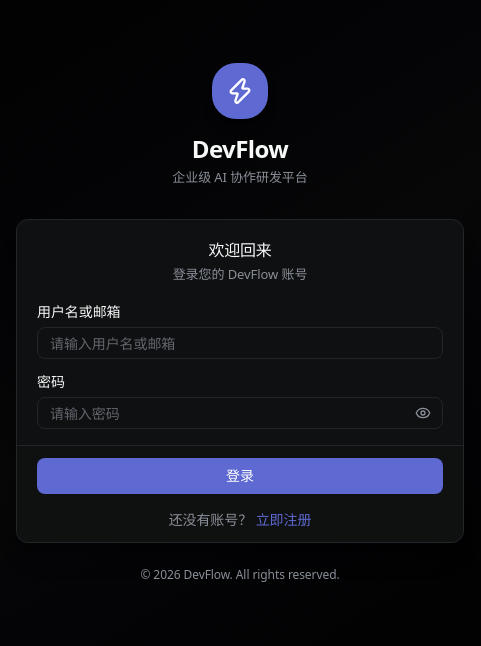
Test: LoginPage MFA flow › requires six digits, submits the challenge, and completes login
The image size is (481, 646).
Later steps or results of the test are not shown.
In the field labelled "用户名或邮箱": (240, 343) [37,327,443,359], type "developer"
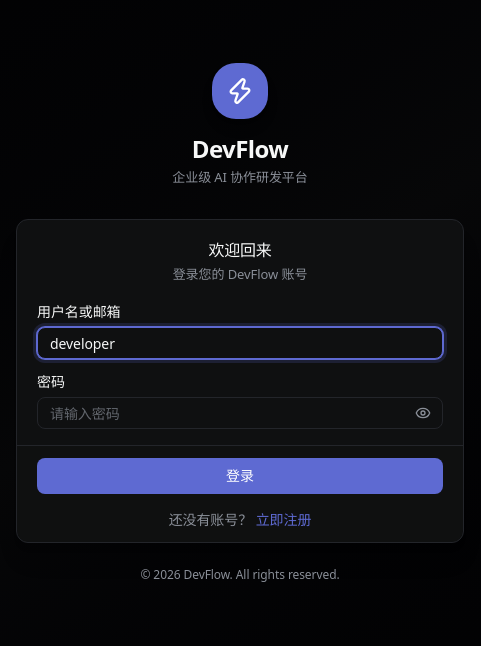
In the password field labelled "密码": (240, 413) [37,397,443,429], type "password"
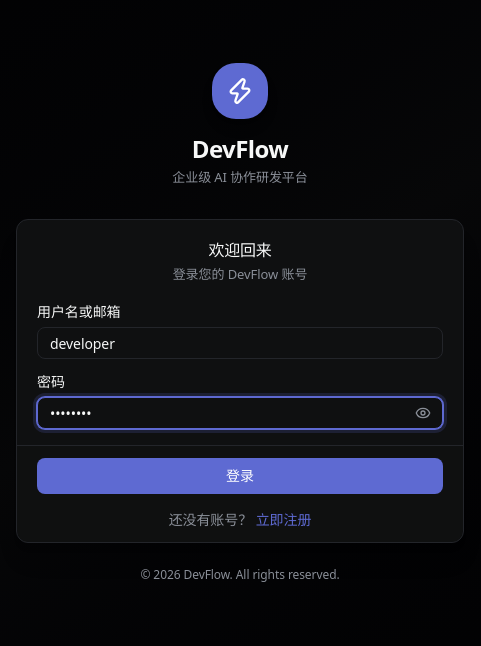
Click the button "登录": (240, 476) [37,458,443,494]
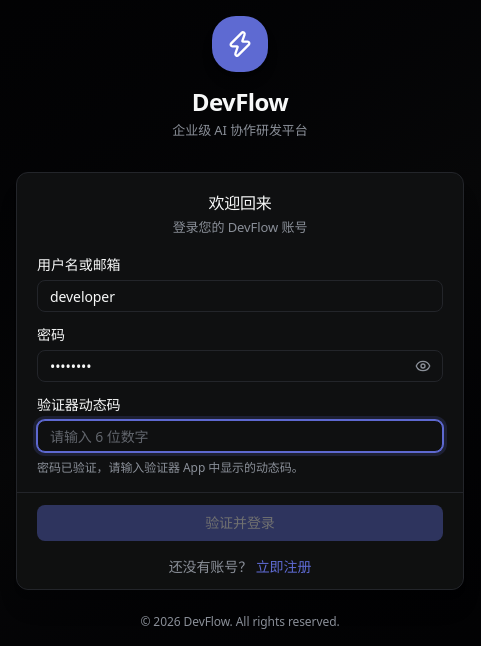
Expected: the button "验证并登录" is disabled, [37,505,443,541]
In the field labelled "验证器动态码": (240, 436) [37,420,443,452], type "12ab"
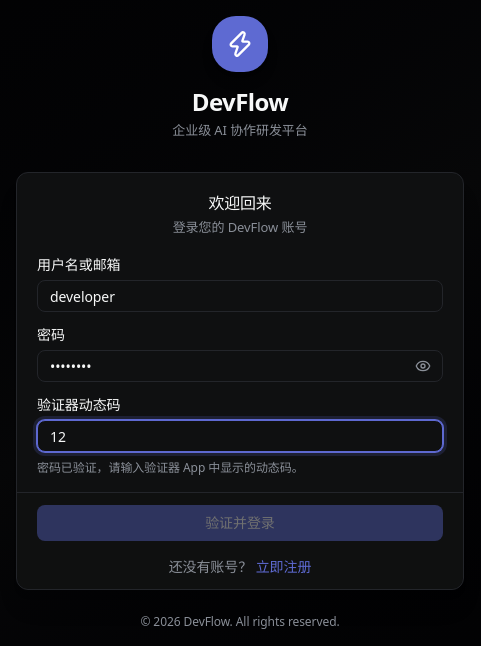
Expected: the button "验证并登录" is disabled, [37,505,443,541]
Expected: the field labelled "验证器动态码" holds "12"
In the field labelled "验证器动态码": (240, 436) [37,420,443,452], type "3456"
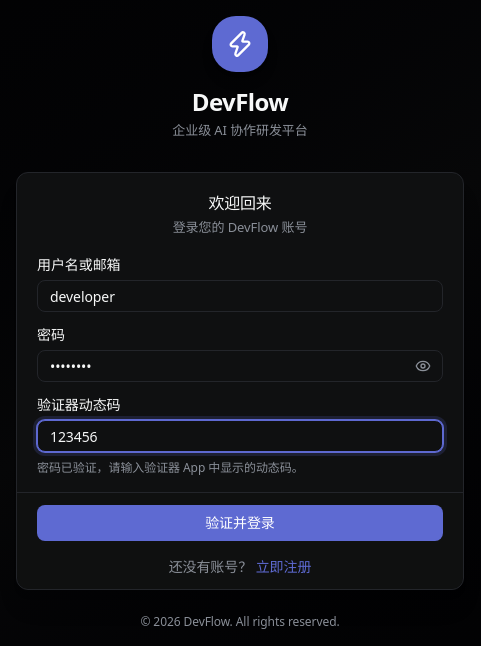
Expected: the field labelled "验证器动态码" holds "123456", [37,420,443,452]
Expected: the button "验证并登录" is enabled, [37,505,443,541]
